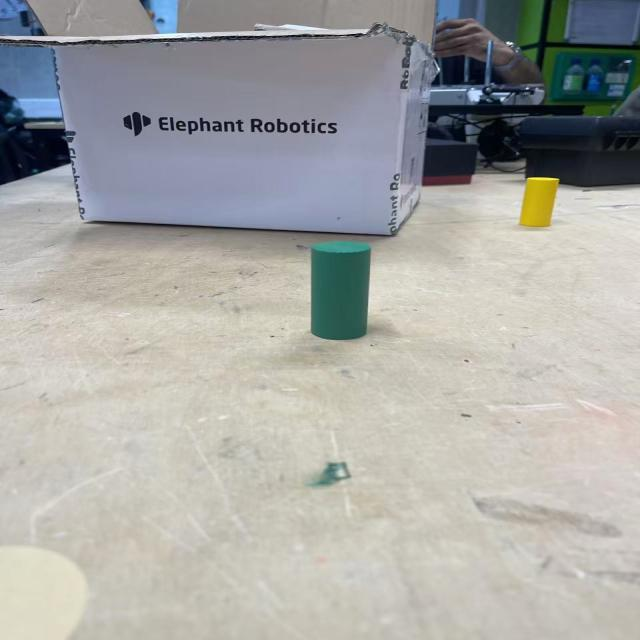green_cylinder: (309, 239, 372, 341)
